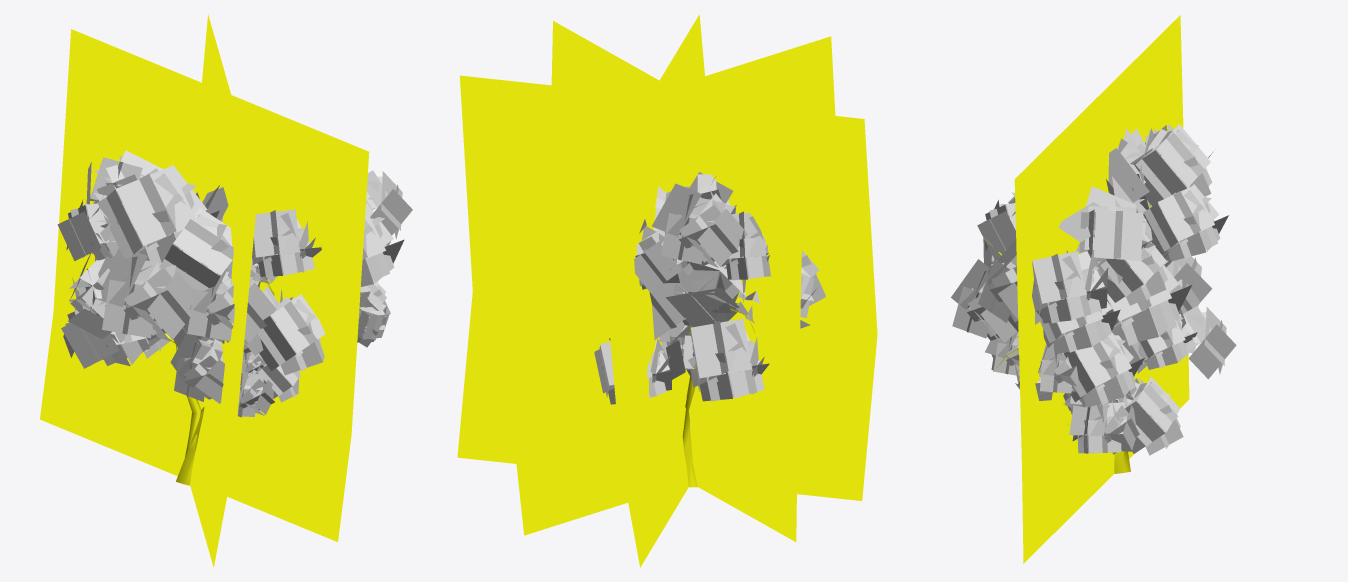
The model's file is Foliage_Trees_Tree_1_Tree1_MidBlend.glb.
The picture shows the model from 3 angles, left to right: view 1: azimuth 30°, elevation 25°; view 2: azimuth 150°, elevation 25°; view 3: azimuth 270°, elevation 25°; orthographic projection.
Parts seen in each view (by area): view 1: tree1_.001; view 2: tree1_.001; view 3: tree1_.001.
Part boxes in pixels (x1,y1,x2,y2): tree1_.001: (40,14,412,567); tree1_.001: (457,14,877,567); tree1_.001: (951,15,1236,563).
Bounding box in the file's own units: 8.04 × 8.09 × 8.18.
Materials: 4 (3 with a texture image).
